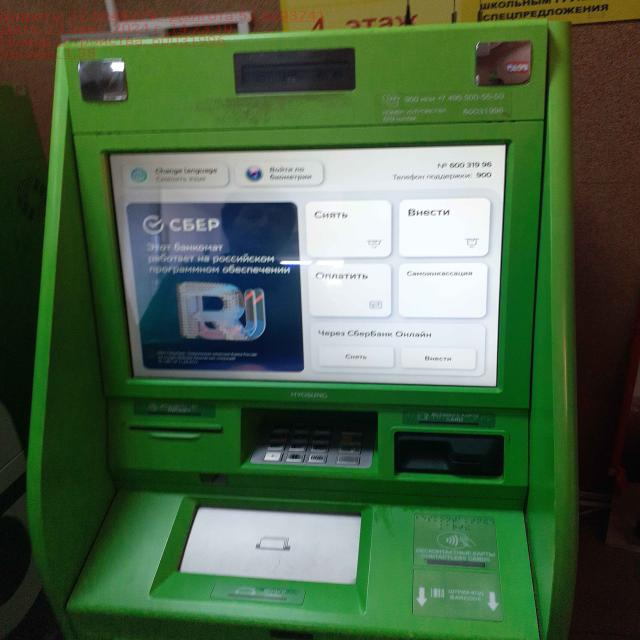bank: (16, 20, 582, 640)
